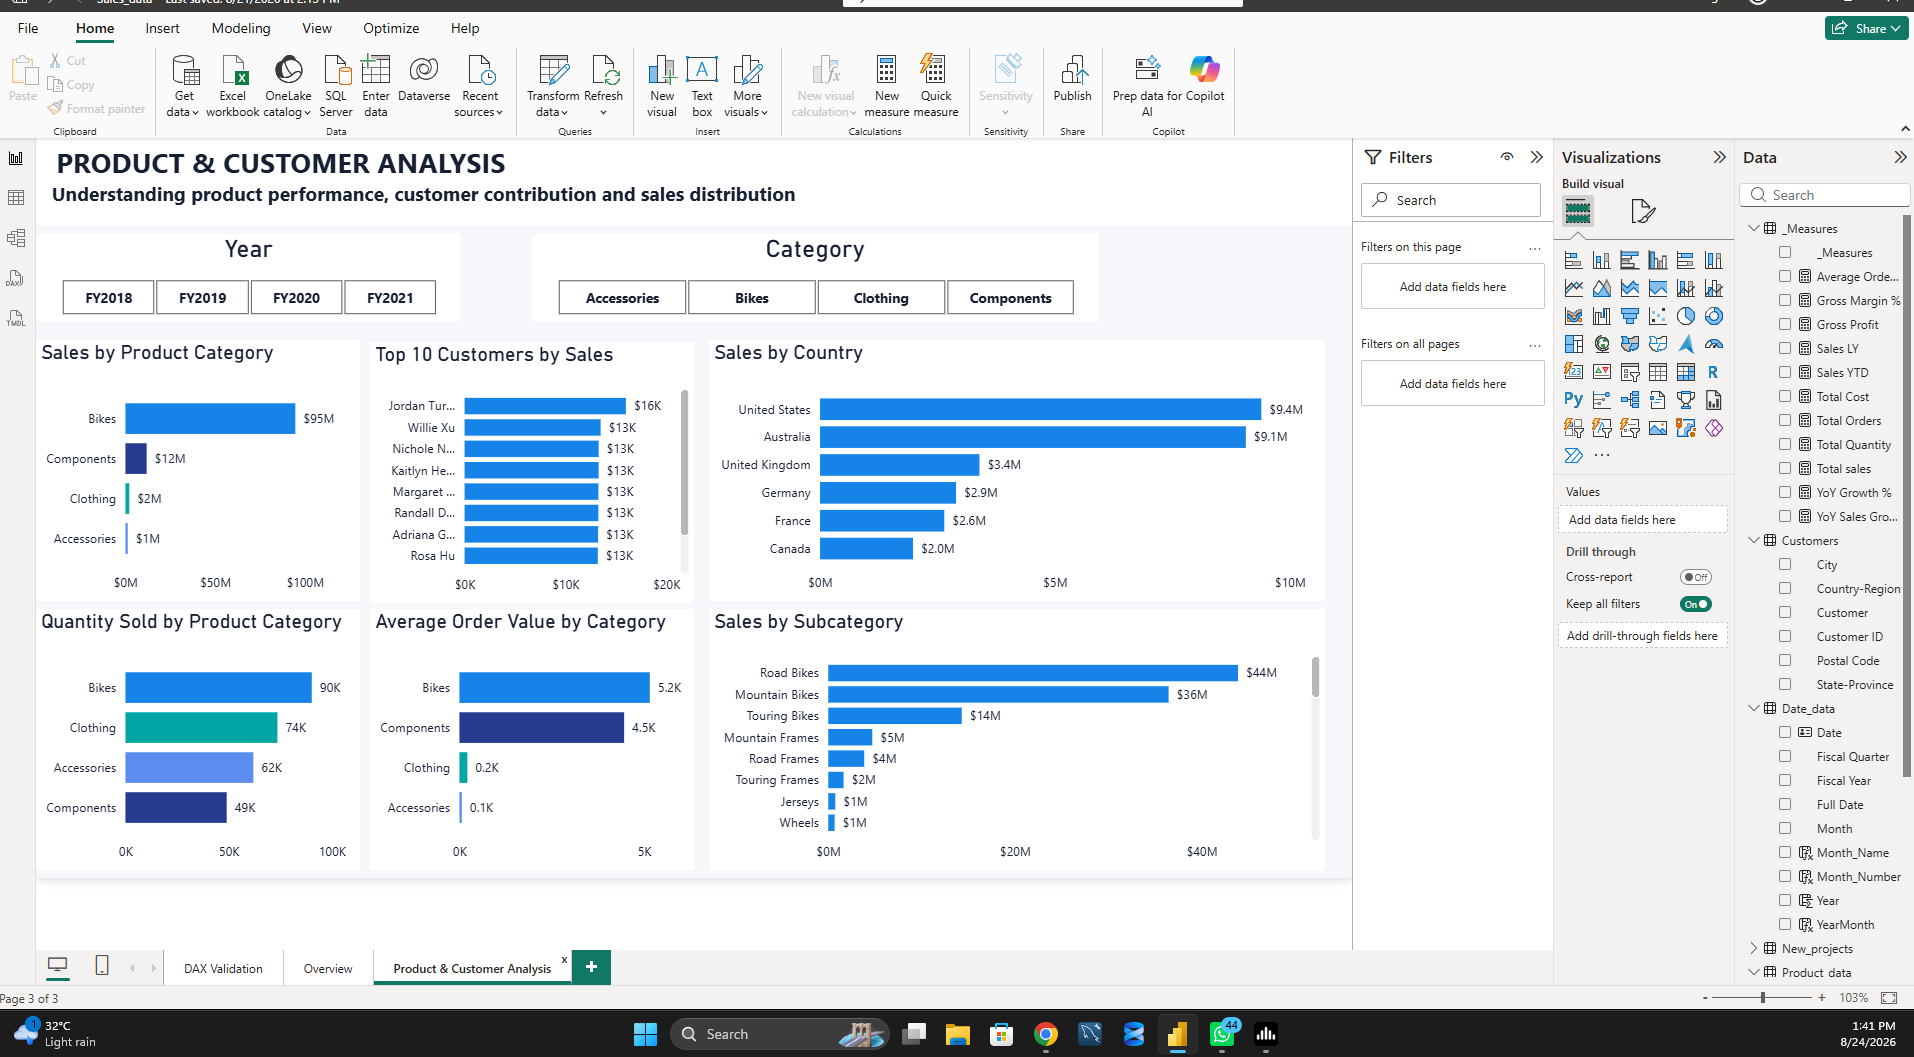

What the dashboard file says about the page in this screenshot:
{"tool":"powerbi","page":{"name":"Product & Customer Analysis","canvas":[1280,720],"ordinal":2},"visuals":[{"type":"textbox","box":[0,0,1280,84.6],"z":0},{"type":"clusteredBarChart","title":"Sales by Product Category","fields":{"Category":["Product_data.Category"],"Y":["_Measures.Total sales"]},"box":[0,196.5,315.1,253.9],"z":1},{"type":"clusteredBarChart","title":"Top 10 Customers by Sales","fields":{"Category":["Customers.Customer"],"Y":["_Measures.Total sales"]},"box":[324.9,198.4,315.1,253.9],"z":2},{"type":"clusteredBarChart","title":"Sales by Country","fields":{"Category":["Customers.Country-Region"],"Y":["_Measures.Total sales"]},"box":[654.6,196.5,599.1,253.9],"z":3},{"type":"clusteredBarChart","title":"Sales by Subcategory","fields":{"Category":["Product_data.Subcategory"],"Y":["_Measures.Total sales"]},"box":[654.6,458.1,599.1,253.9],"z":4},{"type":"clusteredBarChart","title":"Quantity Sold by Product Category","fields":{"Y":["_Measures.Total Quantity"],"Category":["Product_data.Category"]},"box":[0,458.1,315.1,253.9],"z":5},{"type":"clusteredBarChart","title":"Average Order Value by Category","fields":{"Category":["Product_data.Category"],"Y":["_Measures.Average Orders Value"]},"box":[324.9,458.1,315.1,253.9],"z":6},{"type":"slicer","title":"Year","fields":{"Values":["Date_data.Fiscal Year"]},"box":[0,93.4,413.4,84.6],"z":7},{"type":"slicer","title":"Category","fields":{"Values":["Product_data.Category"]},"box":[482.4,93.4,551.5,84.6],"z":8}]}

Visuals, with their boxes on the page's 1280x720 design canvas (x1, y1, x2, y2). These are canvas units, not pixel positions in the 1914x1057 screenshot, which may show the page scaled, cropped or inside an application window:
textbox: [x1=0, y1=0, x2=1280, y2=85]
"Sales by Product Category" clusteredBarChart: [x1=0, y1=196, x2=315, y2=450]
"Top 10 Customers by Sales" clusteredBarChart: [x1=325, y1=198, x2=640, y2=452]
"Sales by Country" clusteredBarChart: [x1=655, y1=196, x2=1254, y2=450]
"Sales by Subcategory" clusteredBarChart: [x1=655, y1=458, x2=1254, y2=712]
"Quantity Sold by Product Category" clusteredBarChart: [x1=0, y1=458, x2=315, y2=712]
"Average Order Value by Category" clusteredBarChart: [x1=325, y1=458, x2=640, y2=712]
"Year" slicer: [x1=0, y1=93, x2=413, y2=178]
"Category" slicer: [x1=482, y1=93, x2=1034, y2=178]
